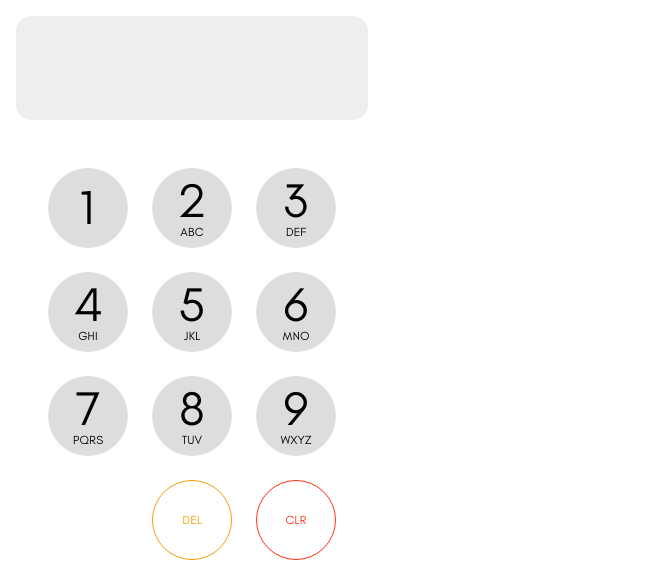
handle API error
The image size is (658, 577).
Click the text "2" at x=192, y=201, box [178,177,206,225]
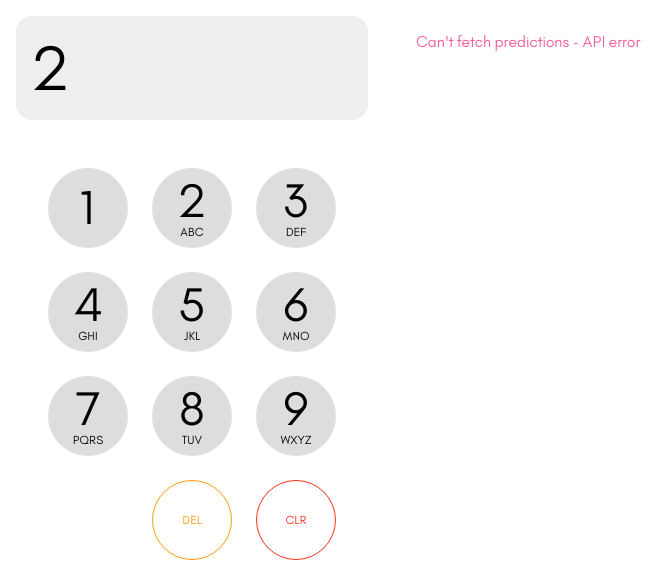
Check: the text "Can't fetch predictions - API error" is shown, box [416,32,640,51]
